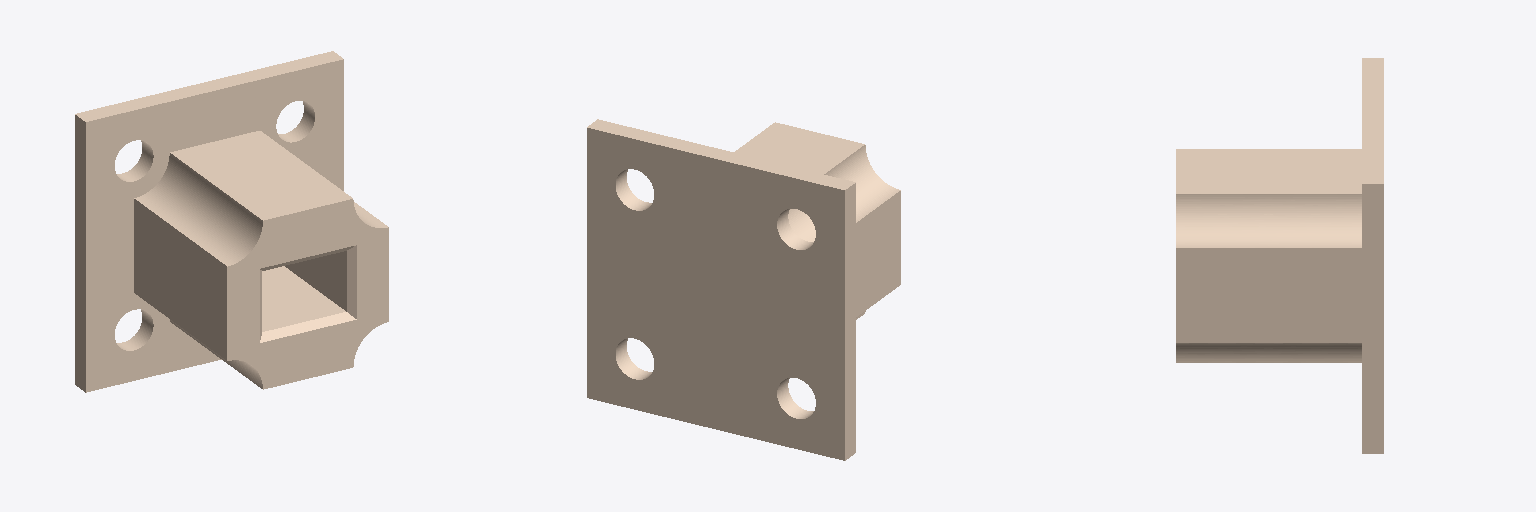
File: industreal_tray_insert_rectangular_peg_12mm.obj
3 views of the same model, side by side, from view 1: azimuth 30°, elevation 25°; view 2: azimuth 150°, elevation 25°; view 3: azimuth 270°, elevation 25° (orthographic).
Visible parts, largest first — view 1: industreal_tray_insert_rectangular_peg_12mm; view 2: industreal_tray_insert_rectangular_peg_12mm; view 3: industreal_tray_insert_rectangular_peg_12mm.
Boxes of the visible parts, x1=… form: industreal_tray_insert_rectangular_peg_12mm: x1=75, y1=51, x2=388, y2=392; industreal_tray_insert_rectangular_peg_12mm: x1=587, y1=119, x2=900, y2=460; industreal_tray_insert_rectangular_peg_12mm: x1=1176, y1=58, x2=1383, y2=453.
Size of the model in its own units: 0.04 by 0.04 by 0.028.